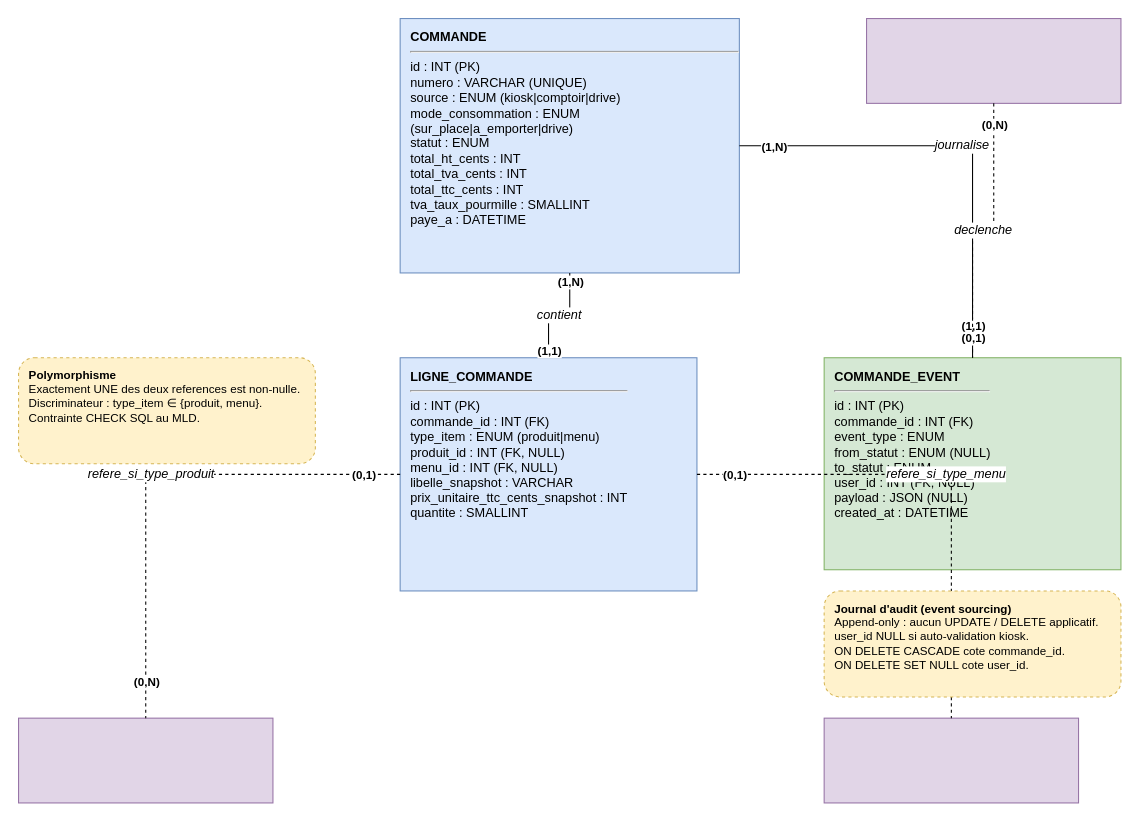
Some shapes in this 1139 by 821 pixel diagram are drawn without their labels. Each missing label, with the centre of its shape:
MENU id : INT (PK) (detail dans Catalogue): (951,760)
PRODUIT id : INT (PK) (detail dans Catalogue): (145,760)
USER id : INT (PK) (detail dans RBAC): (993,60)
